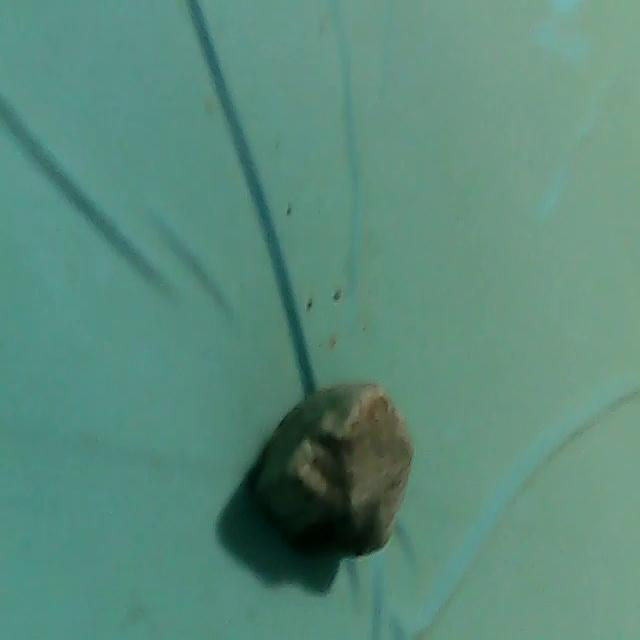rock: (252, 372, 422, 564)
